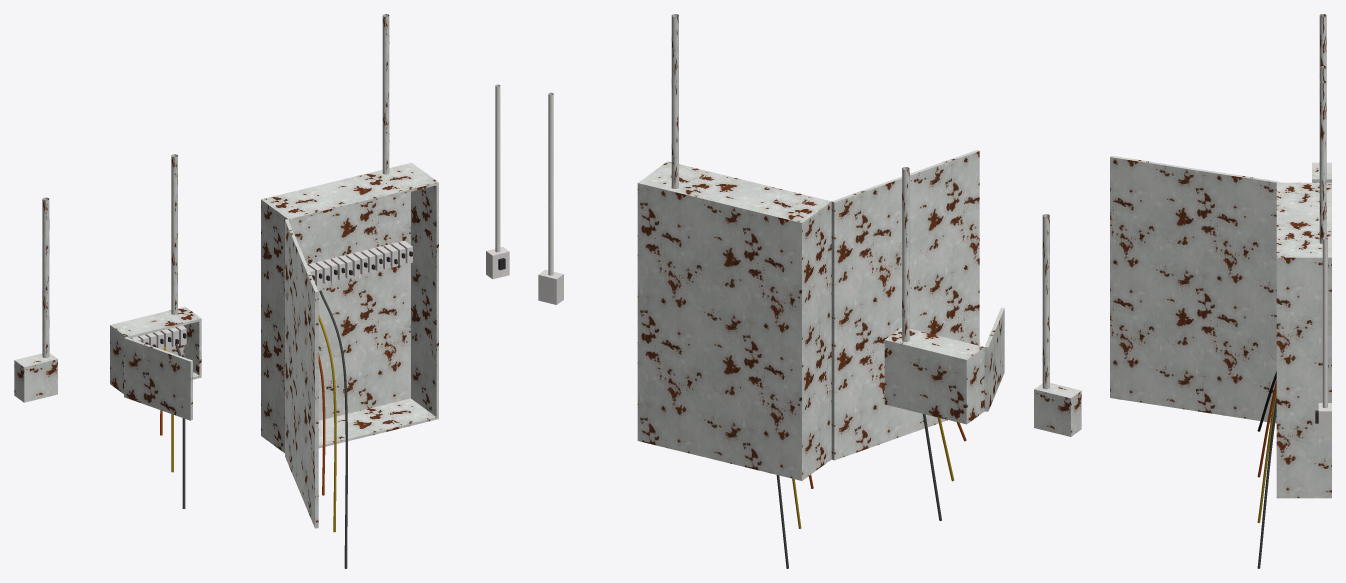
The model's file is elettrico.glb.
3 views of the same model, side by side, from view 1: azimuth 30°, elevation 25°; view 2: azimuth 150°, elevation 25°; view 3: azimuth 270°, elevation 25° (orthographic). The views are drawn at different scales.
Parts seen in each view (by area): view 1: det_quadro_elettrico, det_cassetta_aperta, det_cassetta_piccola, det_interruttore_stagno; view 2: det_quadro_elettrico, det_cassetta_aperta, det_cassetta_piccola, det_interruttore_stagno; view 3: det_quadro_elettrico, det_interruttore_stagno, det_cassetta_piccola.
Boxes of the visible parts, bbox=[...] form: det_quadro_elettrico: bbox=[261, 14, 438, 568]; det_cassetta_aperta: bbox=[110, 154, 201, 508]; det_cassetta_piccola: bbox=[14, 197, 57, 402]; det_interruttore_stagno: bbox=[486, 84, 509, 279]; det_quadro_elettrico: bbox=[637, 14, 979, 568]; det_cassetta_aperta: bbox=[884, 167, 1004, 520]; det_cassetta_piccola: bbox=[1034, 214, 1081, 436]; det_interruttore_stagno: bbox=[538, 92, 563, 304]; det_quadro_elettrico: bbox=[1110, 80, 1331, 568]; det_interruttore_stagno: bbox=[1315, 237, 1331, 435]; det_cassetta_piccola: bbox=[1312, 14, 1331, 182].
Size of the model in its own units: 2.59 by 2.6 by 1.
Materials: 7 (6 with a texture image).
